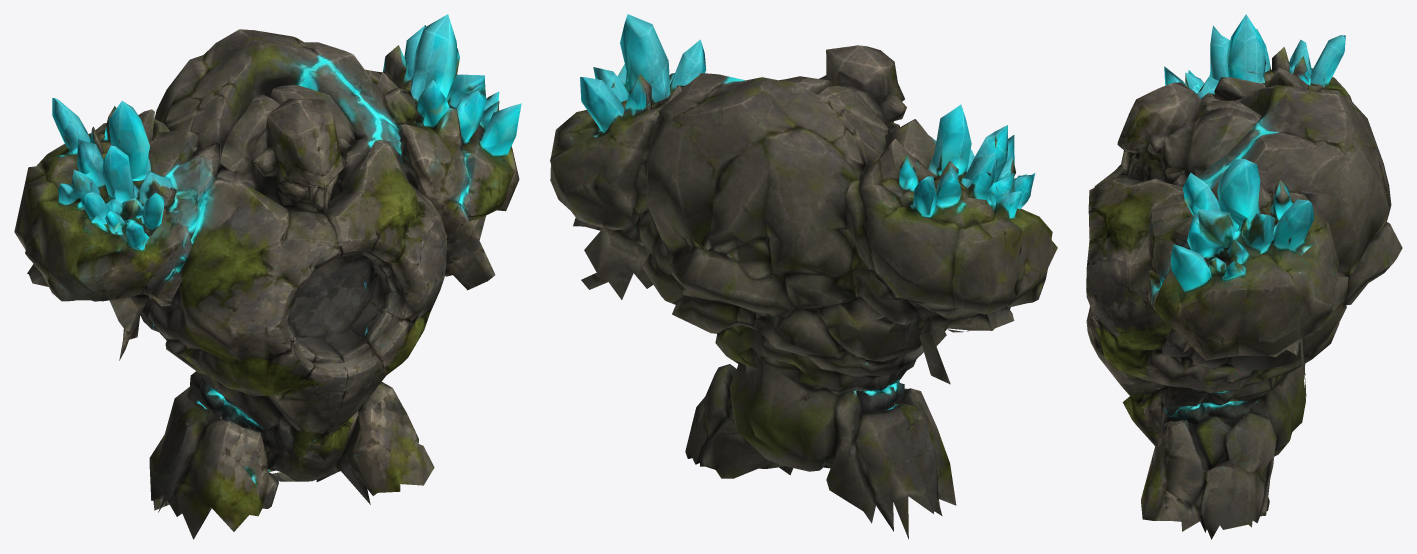
File: warden_torso.glb
3 renders of one model, left to right at view 1: azimuth 30°, elevation 25°; view 2: azimuth 150°, elevation 25°; view 3: azimuth 270°, elevation 25°, orthographic. The views are drawn at different scales.
Size of the model in its own units: 11.77 by 10.57 by 7.27.
Materials: 1 (1 with a texture image).
